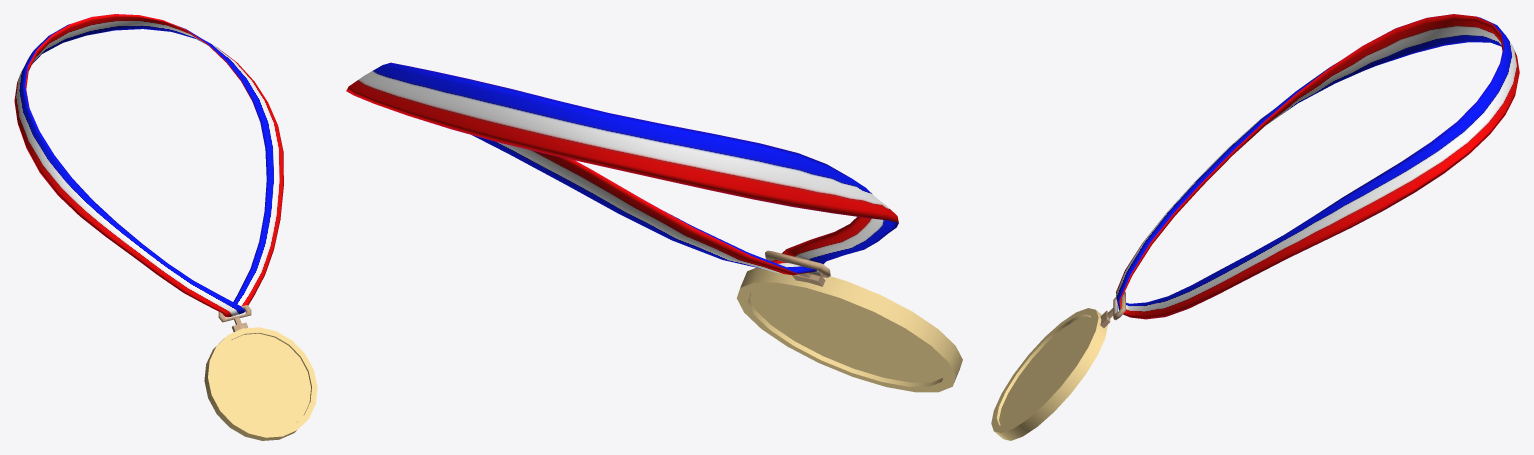
The model's file is medal.glb.
3 renders of one model, left to right at view 1: azimuth 30°, elevation 25°; view 2: azimuth 150°, elevation 25°; view 3: azimuth 270°, elevation 25°, orthographic. The views are drawn at different scales.
Visible parts, largest first — view 1: Gold_medal; view 2: Gold_medal; view 3: Gold_medal.
Boxes of the visible parts, left/top/right/bottom form: Gold_medal: left=14, top=14, right=317, bottom=440; Gold_medal: left=346, top=62, right=962, bottom=392; Gold_medal: left=991, top=14, right=1519, bottom=440.
Bounding box in the file's own units: 0.1017 × 0.1182 × 0.1473.
Materials: 1 (1 with a texture image).
